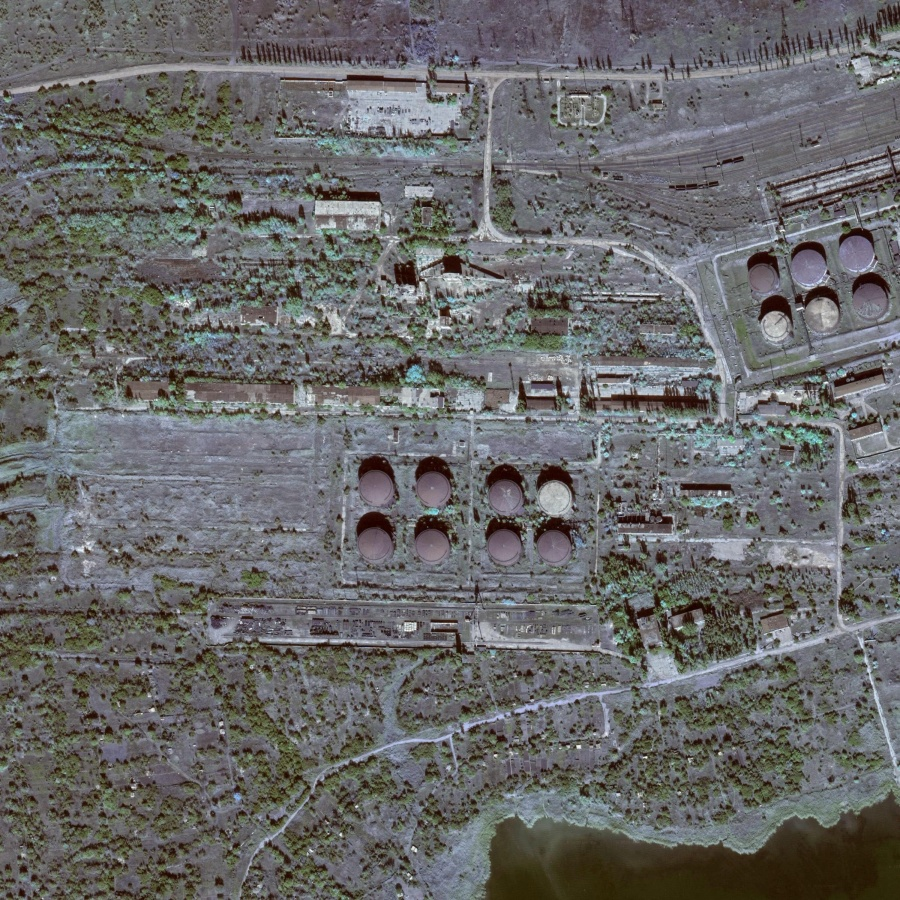PowerPlant: (323, 416, 593, 594)
